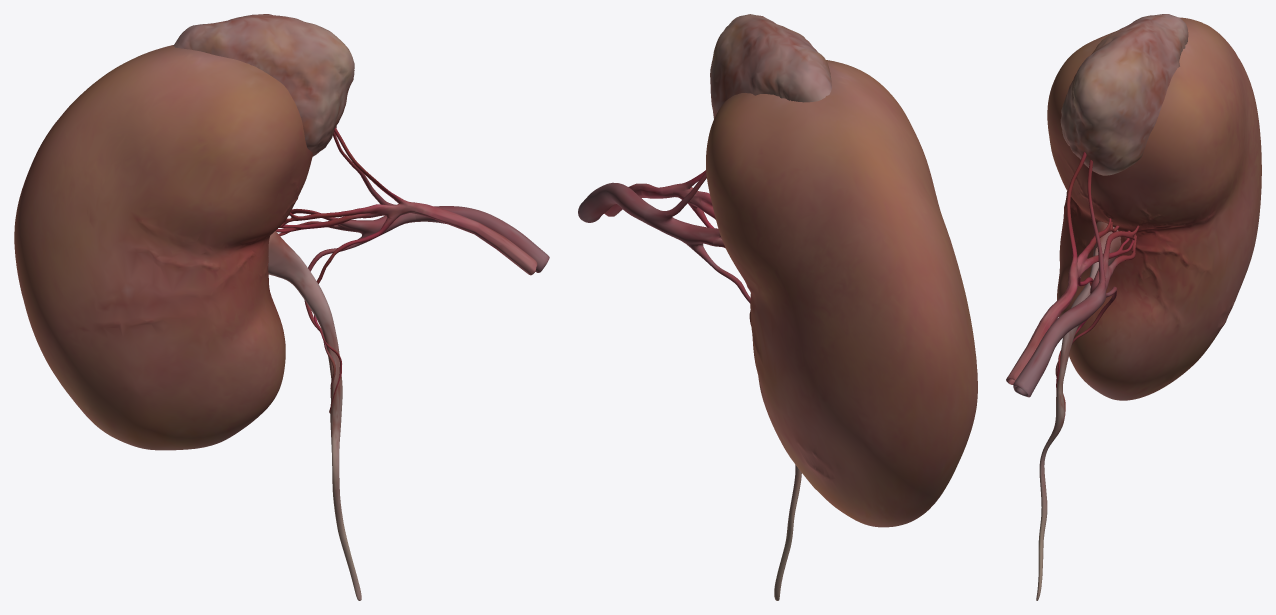
File: kidney.glb
3 renders of one model, left to right at view 1: azimuth 30°, elevation 25°; view 2: azimuth 150°, elevation 25°; view 3: azimuth 270°, elevation 25°, orthographic. The views are drawn at different scales.
Visible parts, largest first — view 1: Object_2; view 2: Object_2; view 3: Object_2.
Part boxes in pixels (x1,y1,x2,y2): Object_2: [14, 14, 549, 600]; Object_2: [578, 14, 977, 600]; Object_2: [1006, 14, 1261, 600].
Size of the model in its own units: 3.59 by 4.42 by 1.86.
